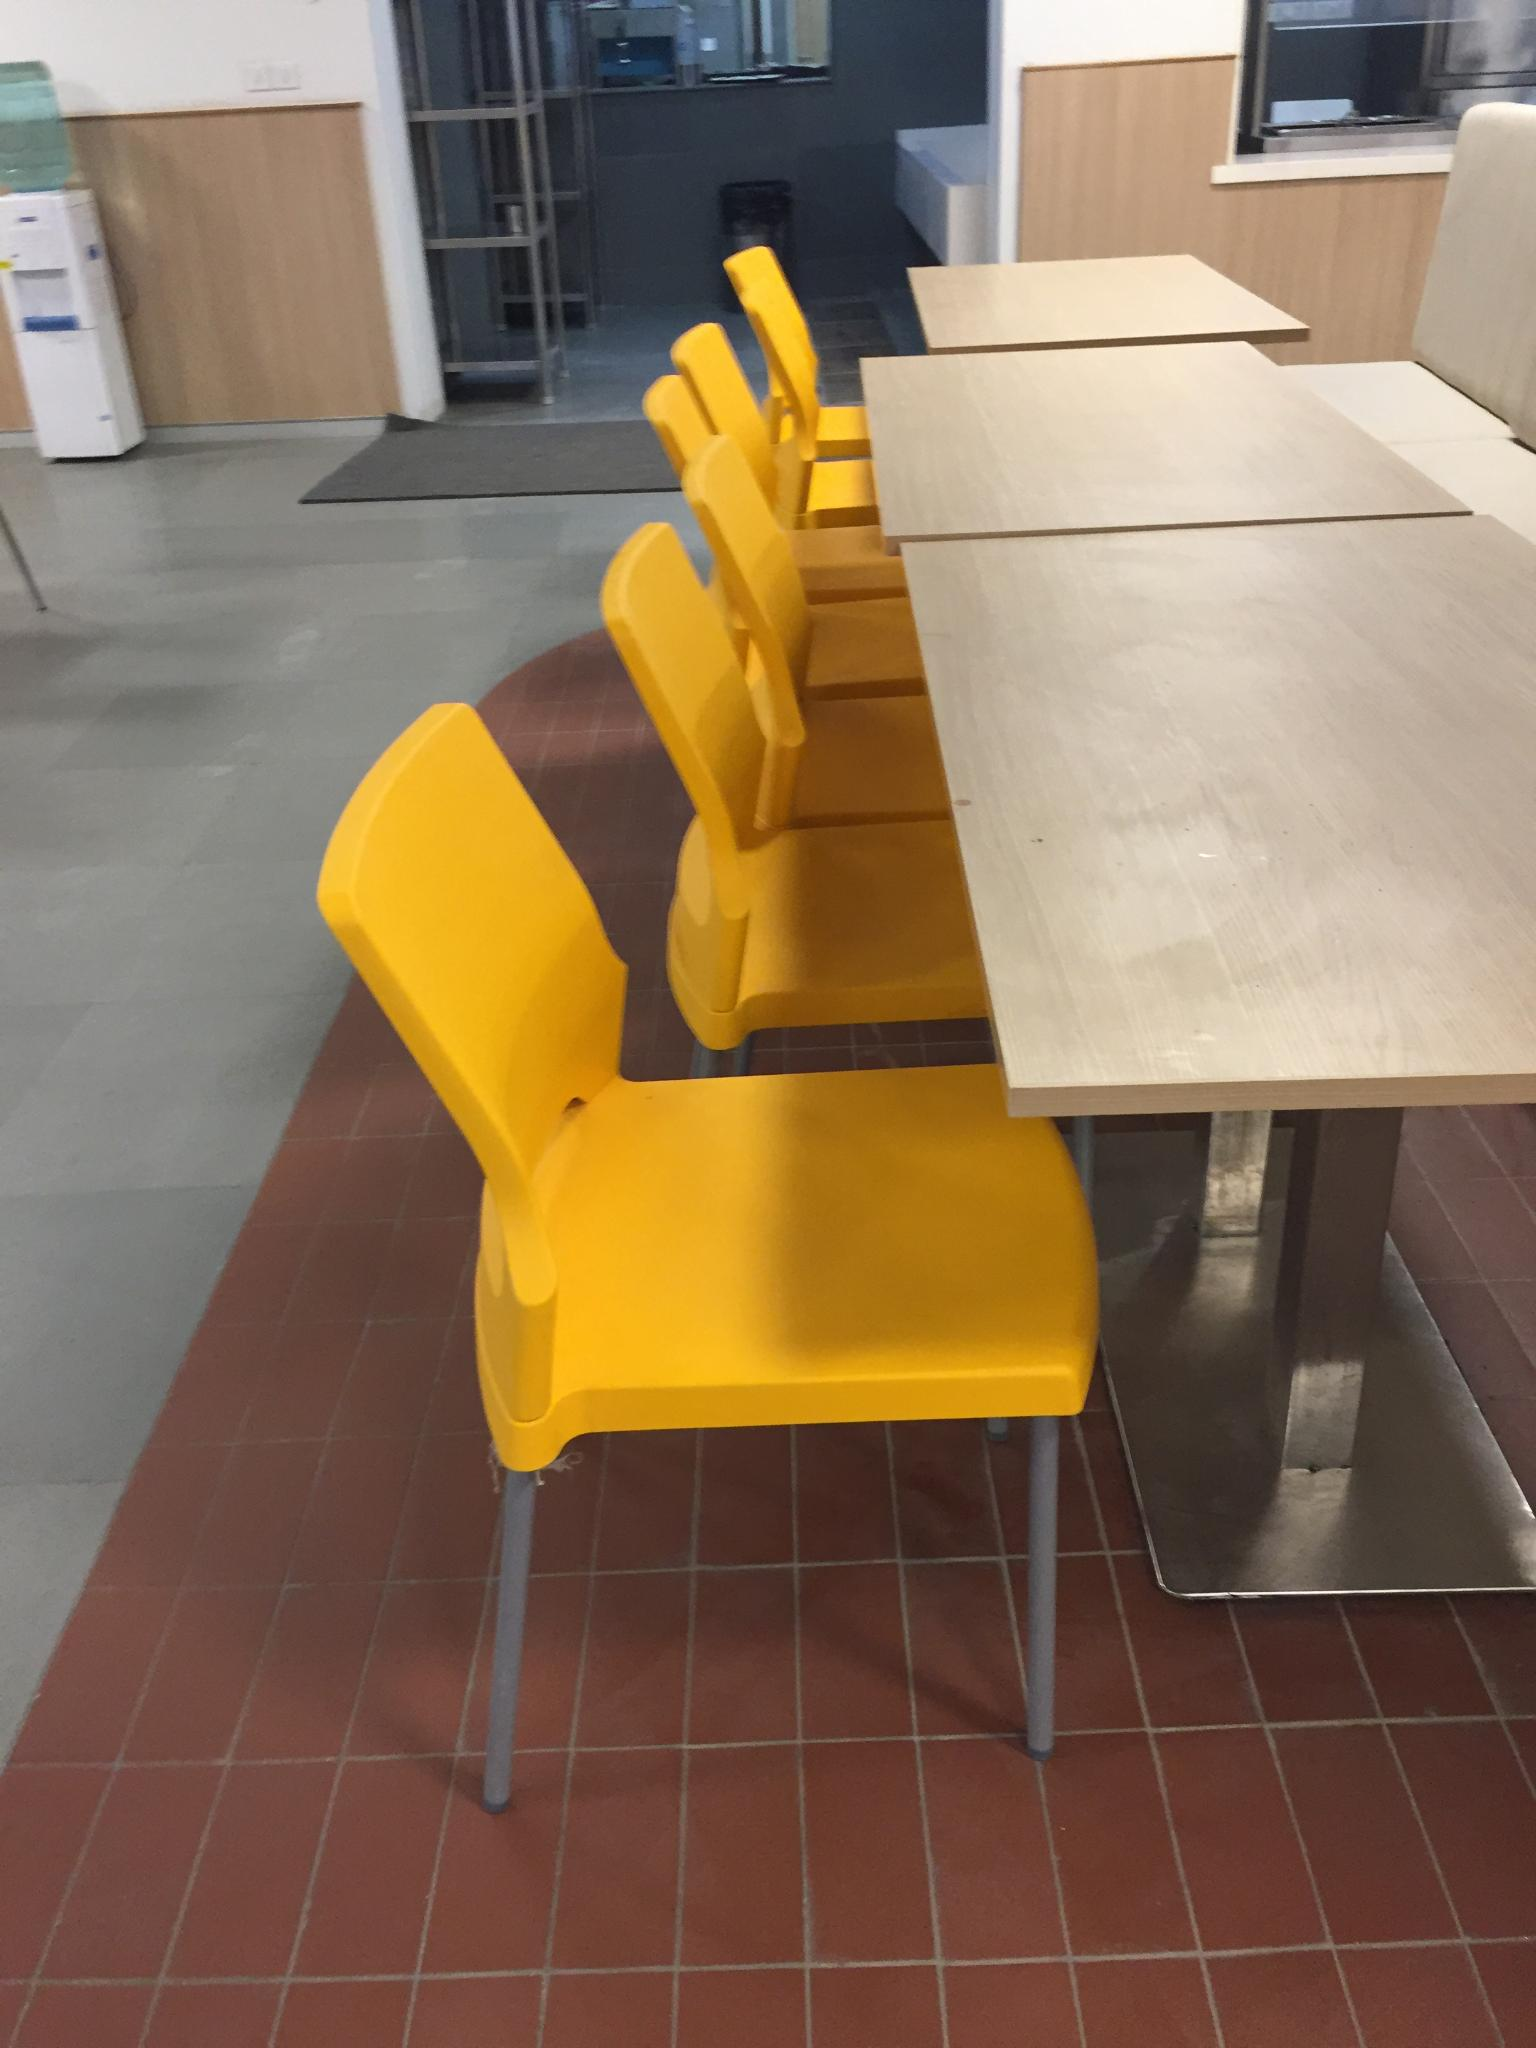chair: (315, 698, 1102, 1811), (599, 519, 994, 1061), (666, 221, 991, 595), (1279, 98, 1534, 452)
